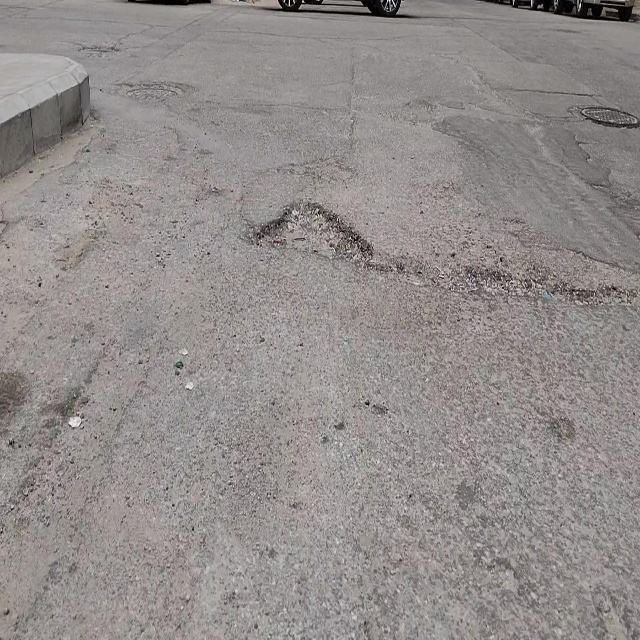pothole: (256, 196, 374, 266)
